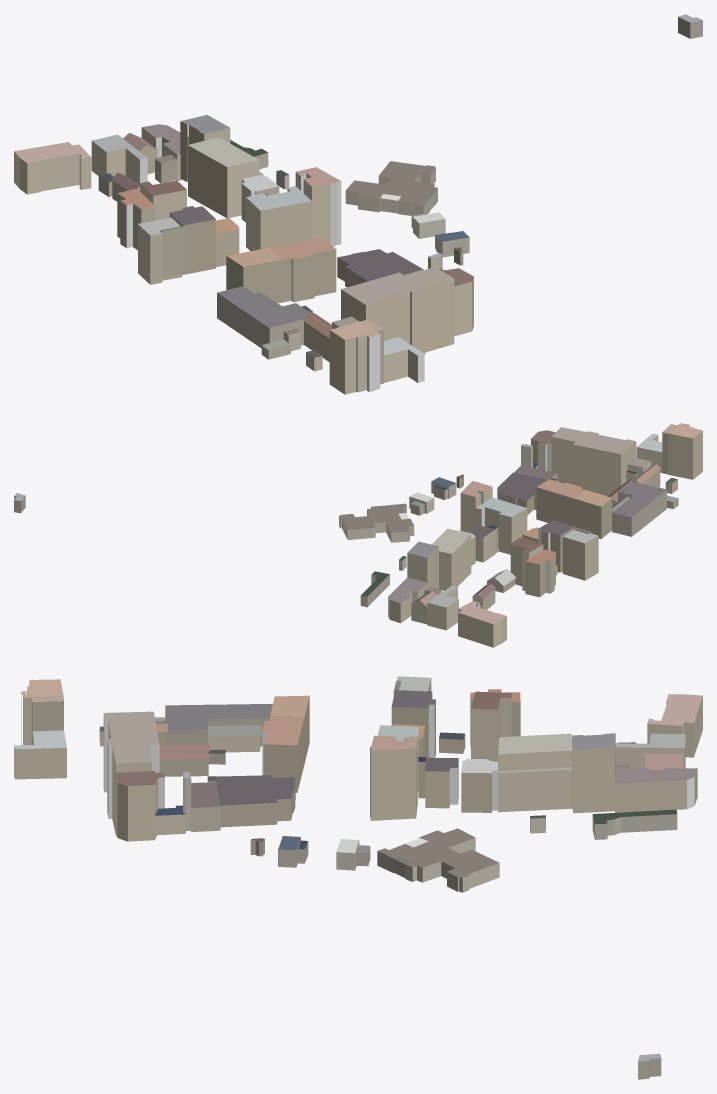
The picture shows the model from 3 angles, top to bottom: view 1: azimuth 30°, elevation 25°; view 2: azimuth 150°, elevation 25°; view 3: azimuth 270°, elevation 25°; orthographic projection. The views are drawn at different scales.
Visible parts, largest first — view 1: tuile; view 2: tuile; view 3: tuile.
Part boxes in pixels (box(x1,y1,x2,y2)): tuile: box(14, 14, 702, 394); tuile: box(14, 423, 702, 647); tuile: box(14, 676, 702, 1079).
Bounding box in the file's own units: 251 × 28.35 × 204.
